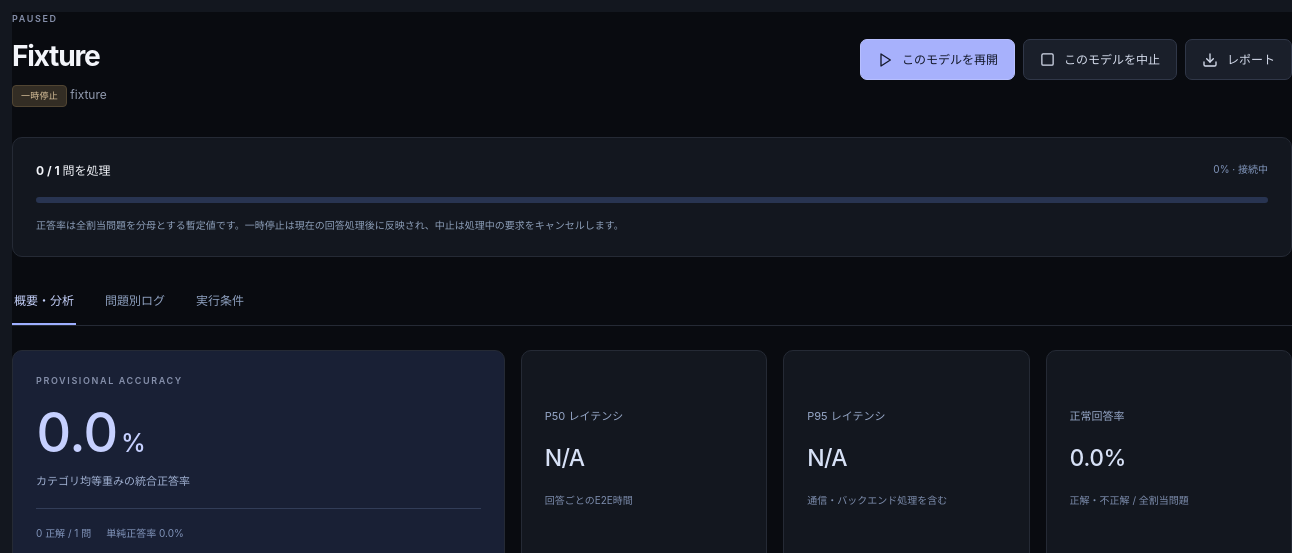
Scenario: keeps completion when a resume response fetch arrives late
Click the button "このモデルを再開" at [938, 60], box [860,39,1015,80]
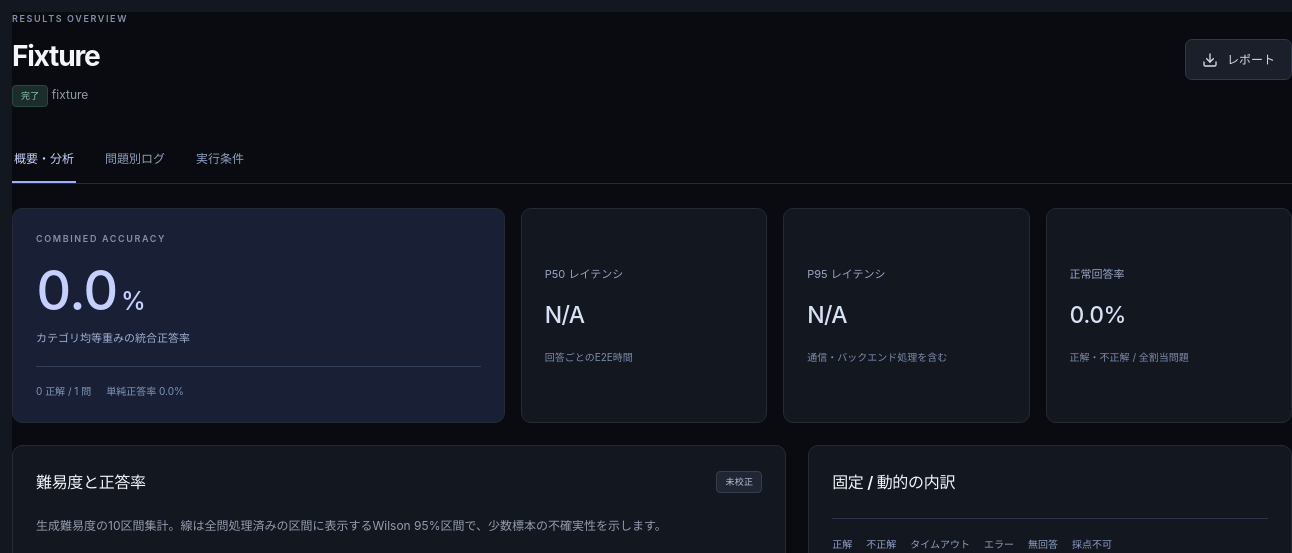
Now the text "完了" is shown, box [12,85,48,107]
